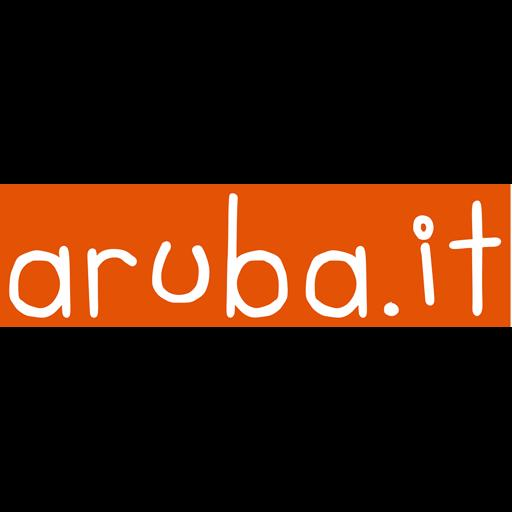Aruba S-p-A: (0, 184, 512, 327)
